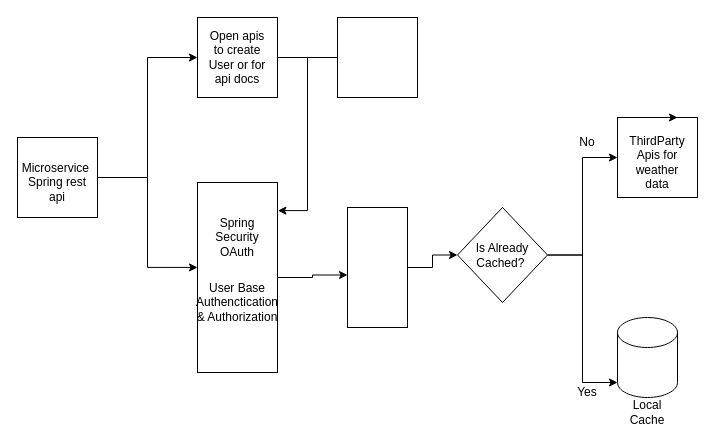
Some shapes in this 715 by 445 pixel diagram are drawn without their labels. The shapes that lost their labels are listed below. From the top down, each one's centre as x and y in pixels, then its label:
At point (377, 57): "Services to create valid User".
At point (377, 267): "Service Layers for Pulling weather data".
